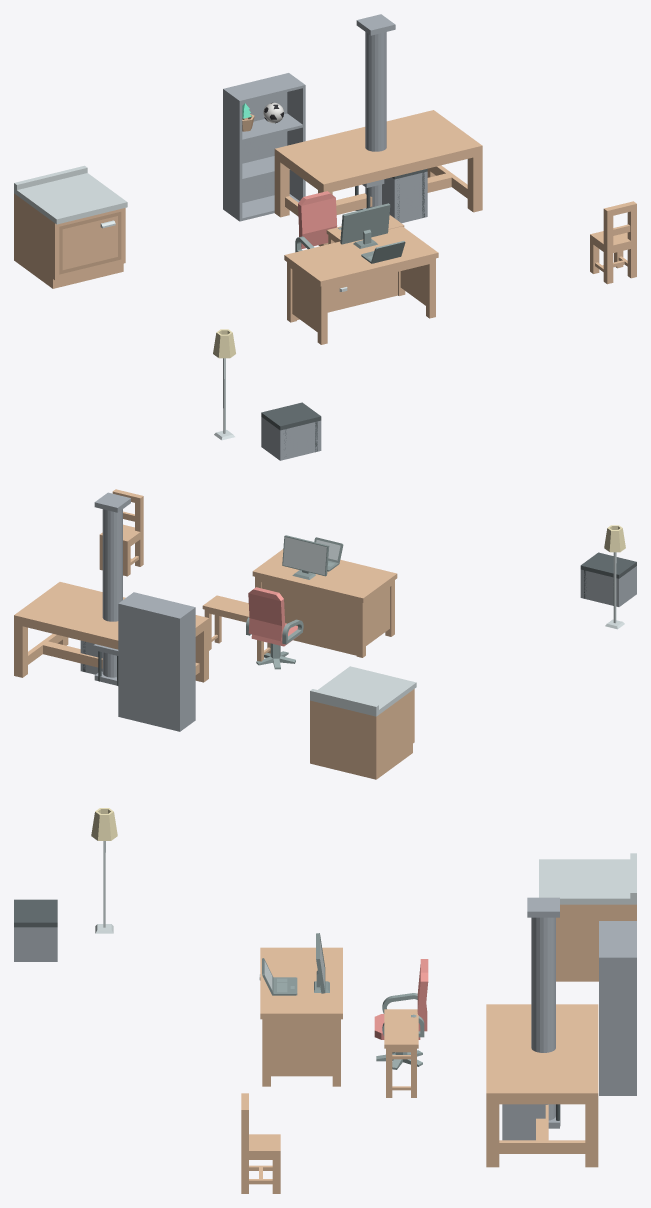
3 renders of one model, top to bottom at view 1: azimuth 30°, elevation 25°; view 2: azimuth 150°, elevation 25°; view 3: azimuth 270°, elevation 25°, orthographic. The views are drawn at different scales.
Visible parts, largest first — view 1: table_green__table(Clone), desk_blue__desk(Clone), cabinet_blue__kitchenCabinet(Clone), cabinet_blue__door, column_cyan__column_cyan shaft, chair_cyan__chair(Clone), shelf_orange__shelf_orange side_l, shelf_orange__shelf_orange back, deskchair_black__chair, bin_gray__bin_gray shell, crate_red__crate_red shell, monitor_gray__computerScreen(Clone) (+6 smaller); view 2: cabinet_blue__kitchenCabinet(Clone), desk_blue__desk(Clone), table_green__table(Clone), shelf_orange__shelf_orange back, column_cyan__column_cyan shaft, deskchair_black__chair, shelf_orange__shelf_orange side_l, monitor_gray__computerScreen(Clone), crate_red__crate_red shell, chair_cyan__chair(Clone), sidetable_brown__sideTable(Clone), lamp_white__lampRoundFloor(Clone) (+5 smaller); view 3: table_green__table(Clone), desk_blue__desk(Clone), cabinet_blue__kitchenCabinet(Clone), shelf_orange__shelf_orange side_r, column_cyan__column_cyan shaft, sidetable_brown__sideTable(Clone), chair_cyan__chair(Clone), crate_red__crate_red shell, bin_gray__bin_gray shell, deskchair_black__chair, shelf_orange__shelf_orange board3, crate_red__crate_red lid (+4 smaller).
Part boxes in pixels (x1,y1,x2,y2): table_green__table(Clone): (274,110,482,246); desk_blue__desk(Clone): (284,226,438,344); cabinet_blue__kitchenCabinet(Clone): (14,165,127,288); cabinet_blue__door: (59,211,121,274); column_cyan__column_cyan shaft: (365,32,386,208); chair_cyan__chair(Clone): (590,201,636,284); shelf_orange__shelf_orange side_l: (223,88,242,221); shelf_orange__shelf_orange back: (226,73,287,202); deskchair_black__chair: (295,191,341,252); bin_gray__bin_gray shell: (382,171,427,223); crate_red__crate_red shell: (261,417,321,460); monitor_gray__computerScreen(Clone): (340,203,390,248); cabinet_blue__kitchenCabinet(Clone): (310,666,416,779); desk_blue__desk(Clone): (252,549,397,657); table_green__table(Clone): (14,582,208,682); shelf_orange__shelf_orange back: (120,603,178,731); column_cyan__column_cyan shaft: (102,509,122,677); deskchair_black__chair: (246,587,303,646); shelf_orange__shelf_orange side_l: (177,606,195,731); monitor_gray__computerScreen(Clone): (282,535,329,579); crate_red__crate_red shell: (580,566,636,606); chair_cyan__chair(Clone): (99,489,143,576); sidetable_brown__sideTable(Clone): (202,595,270,661); lamp_white__lampRoundFloor(Clone): (604,525,625,629); table_green__table(Clone): (486,1004,598,1167); desk_blue__desk(Clone): (260,947,342,1086); cabinet_blue__kitchenCabinet(Clone): (539,853,636,981); shelf_orange__shelf_orange side_r: (599,956,636,1095); column_cyan__column_cyan shaft: (531,917,555,1120); sidetable_brown__sideTable(Clone): (384,1009,418,1097); chair_cyan__chair(Clone): (241,1093,280,1193); crate_red__crate_red shell: (14,927,57,961); bin_gray__bin_gray shell: (502,1104,545,1140); deskchair_black__chair: (374,959,428,1039); shelf_orange__shelf_orange board3: (599,922,634,956); crate_red__crate_red lid: (14,899,57,927).
Size of the model in its own units: 5.84 by 2.2 by 5.72.
